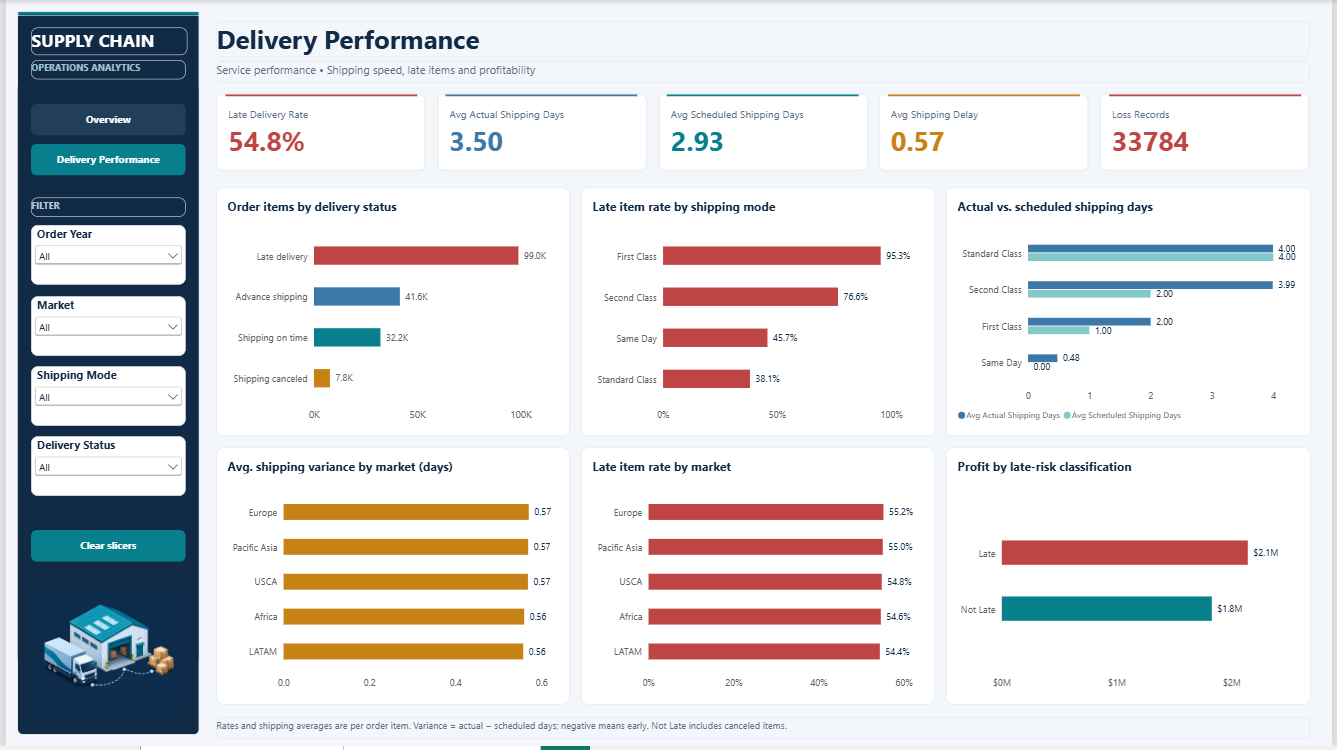

This screenshot's page, from the dashboard's own definition file:
{"tool":"powerbi","page":{"name":"Delivery Performance","canvas":[1920,1080],"ordinal":1},"visuals":[{"type":"shape","box":[16,16,264,1048],"z":0},{"type":"shape","box":[16,16,264,6],"z":0},{"type":"textbox","box":[304,30,1584,52],"z":1000},{"type":"textbox","box":[36,40,226,40],"z":1000},{"type":"textbox","box":[36,86,224,28],"z":1000},{"type":"textbox","box":[304,88,1584,30],"z":1000},{"type":"cardVisual","fields":{"Data":["Supply_Chain.Late Delivery Rate"]},"box":[304,136,304,112],"z":1000},{"type":"cardVisual","fields":{"Data":["Supply_Chain.Avg Actual Shipping Days"]},"box":[624,136,304,112],"z":1000},{"type":"cardVisual","fields":{"Data":["Supply_Chain.Avg Scheduled Shipping Days"]},"box":[944,136,304,112],"z":1000},{"type":"cardVisual","fields":{"Data":["Supply_Chain.Avg Shipping Delay"]},"box":[1264,136,304,112],"z":1000},{"type":"cardVisual","fields":{"Data":["Supply_Chain.Loss Records"]},"box":[1584,136,304,112],"z":1000},{"type":"actionButton","box":[36,150,224,46],"z":1000},{"type":"actionButton","box":[36,208,224,46],"z":1000},{"type":"clusteredBarChart","title":"Order items by delivery status","fields":{"Category":["Supply_Chain.Delivery Status"],"Y":["CountNonNull(Supply_Chain.Order Item ID)"]},"box":[304,272,512,360],"z":1000},{"type":"clusteredBarChart","title":"Late item rate by shipping mode","fields":{"Category":["Supply_Chain.Shipping Mode"],"Y":["Supply_Chain.Late Delivery Rate"]},"box":[832,272,512,360],"z":1000},{"type":"clusteredBarChart","title":"Actual vs. scheduled shipping days","fields":{"Category":["Supply_Chain.Shipping Mode"],"Y":["Supply_Chain.Avg Actual Shipping Days","Supply_Chain.Avg Scheduled Shipping Days"]},"box":[1360,272,528,360],"z":1000},{"type":"textbox","box":[36,286,224,28],"z":1000},{"type":"slicer","fields":{"Values":["Supply_Chain.Order Year"]},"box":[36,326,224,86],"z":1000},{"type":"slicer","fields":{"Values":["Supply_Chain.Market"]},"box":[36,428,224,86],"z":1000},{"type":"slicer","fields":{"Values":["Supply_Chain.Shipping Mode"]},"box":[36,530,224,86],"z":1000},{"type":"slicer","fields":{"Values":["Supply_Chain.Delivery Status"]},"box":[36,632,224,86],"z":1000},{"type":"clusteredBarChart","title":"Avg. shipping variance by market (days)","fields":{"Category":["Supply_Chain.Market"],"Y":["Supply_Chain.Avg Shipping Delay"]},"box":[304,648,512,372],"z":1000},{"type":"clusteredBarChart","title":"Late item rate by market","fields":{"Category":["Supply_Chain.Market"],"Y":["Supply_Chain.Late Delivery Rate"]},"box":[832,648,512,372],"z":1000},{"type":"clusteredBarChart","title":"Profit by late-risk classification","fields":{"Category":["Supply_Chain.Delivery Performance"],"Y":["Supply_Chain.Total Profit"]},"box":[1360,648,528,372],"z":1000},{"type":"actionButton","box":[36,768,224,46],"z":1000},{"type":"image","box":[36,846,224,192],"z":1000},{"type":"textbox","box":[304,1038,1584,30],"z":1000},{"type":"shape","box":[316,136,280,5],"z":1001},{"type":"shape","box":[636,136,280,5],"z":1001},{"type":"shape","box":[956,136,280,5],"z":1001},{"type":"shape","box":[1276,136,280,5],"z":1001},{"type":"shape","box":[1596,136,280,5],"z":1001}]}

Visuals, with their boxes on the page's 1920x1080 design canvas (x1, y1, x2, y2). These are canvas units, not pixel positions in the 1337x750 screenshot, which may show the page scaled, cropped or inside an application window:
shape: locate(16, 16, 280, 1064)
shape: locate(16, 16, 280, 22)
textbox: locate(304, 30, 1888, 82)
textbox: locate(36, 40, 262, 80)
textbox: locate(36, 86, 260, 114)
textbox: locate(304, 88, 1888, 118)
cardVisual - Supply_Chain.Late Delivery Rate: locate(304, 136, 608, 248)
cardVisual - Supply_Chain.Avg Actual Shipping Days: locate(624, 136, 928, 248)
cardVisual - Supply_Chain.Avg Scheduled Shipping Days: locate(944, 136, 1248, 248)
cardVisual - Supply_Chain.Avg Shipping Delay: locate(1264, 136, 1568, 248)
cardVisual - Supply_Chain.Loss Records: locate(1584, 136, 1888, 248)
actionButton: locate(36, 150, 260, 196)
actionButton: locate(36, 208, 260, 254)
"Order items by delivery status" clusteredBarChart: locate(304, 272, 816, 632)
"Late item rate by shipping mode" clusteredBarChart: locate(832, 272, 1344, 632)
"Actual vs. scheduled shipping days" clusteredBarChart: locate(1360, 272, 1888, 632)
textbox: locate(36, 286, 260, 314)
slicer - Supply_Chain.Order Year: locate(36, 326, 260, 412)
slicer - Supply_Chain.Market: locate(36, 428, 260, 514)
slicer - Supply_Chain.Shipping Mode: locate(36, 530, 260, 616)
slicer - Supply_Chain.Delivery Status: locate(36, 632, 260, 718)
"Avg. shipping variance by market (days)" clusteredBarChart: locate(304, 648, 816, 1020)
"Late item rate by market" clusteredBarChart: locate(832, 648, 1344, 1020)
"Profit by late-risk classification" clusteredBarChart: locate(1360, 648, 1888, 1020)
actionButton: locate(36, 768, 260, 814)
image: locate(36, 846, 260, 1038)
textbox: locate(304, 1038, 1888, 1068)
shape: locate(316, 136, 596, 141)
shape: locate(636, 136, 916, 141)
shape: locate(956, 136, 1236, 141)
shape: locate(1276, 136, 1556, 141)
shape: locate(1596, 136, 1876, 141)
